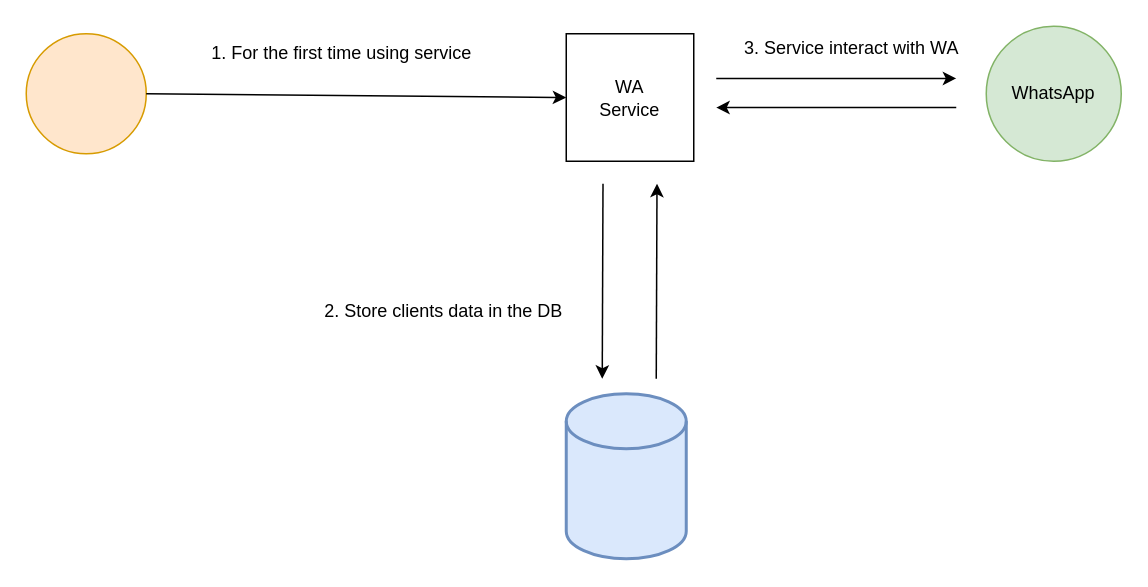
Some shapes in this 1148 by 587 pixel diagram are drawn without their labels. The box of each missing label's shape, as (x1, y1, x2, y2) in pixels:
Client: (25, 32, 146, 154)
Local DB: (564, 392, 687, 560)
